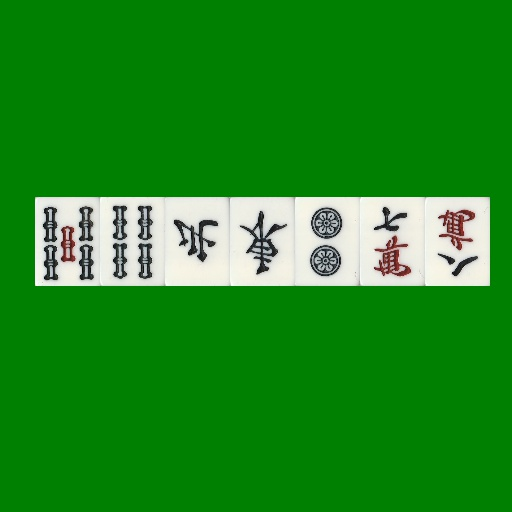2p: (295, 197, 360, 286)
4s: (100, 197, 165, 286)
5s: (35, 197, 100, 286)
7m: (360, 197, 425, 286)
8m: (425, 197, 490, 286)
east: (230, 197, 295, 286)
north: (165, 197, 230, 286)
